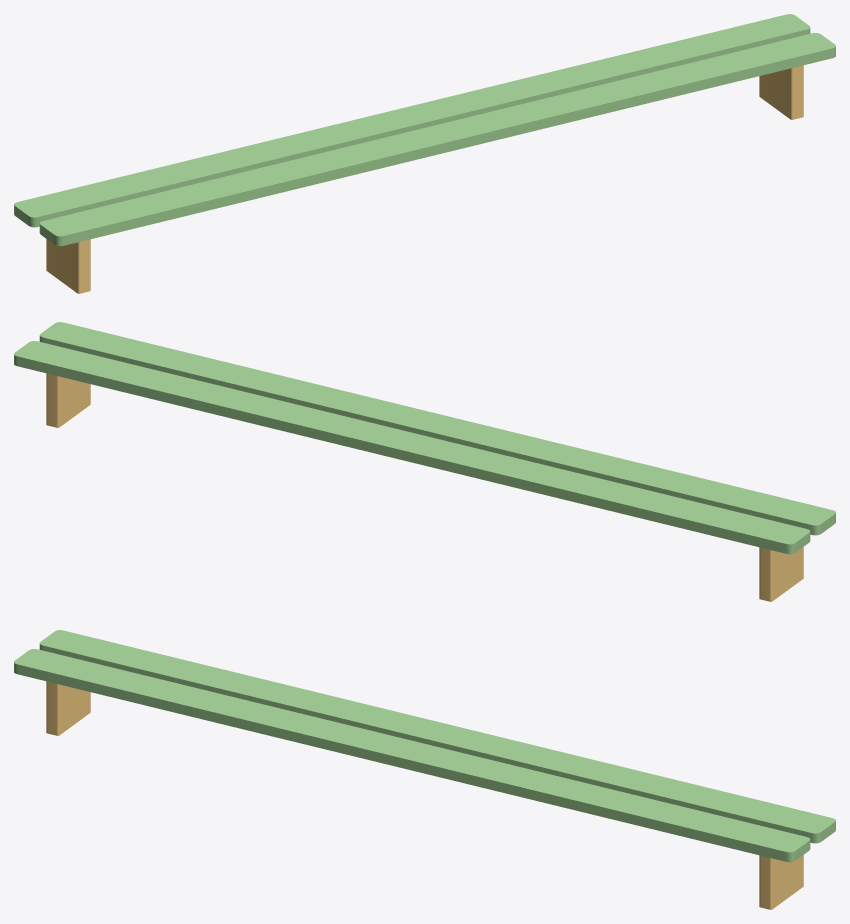
The model's file is Bench C.fbx.
The picture shows the model from 3 angles, top to bottom: view 1: azimuth 30°, elevation 25°; view 2: azimuth 150°, elevation 25°; view 3: azimuth 330°, elevation 25°; orthographic projection.
Parts seen in each view (by area): view 1: Bench C.001, Bench C, Bench C.002; view 2: Bench C.001, Bench C, Bench C.002; view 3: Bench C, Bench C.001, Bench C.002.
Boxes of the visible parts, box(x1,y1,x2,y2) form: Bench C.001: box(14, 139, 320, 293); Bench C: box(529, 14, 835, 120); Bench C.002: box(274, 77, 575, 182); Bench C.001: box(529, 447, 835, 601); Bench C: box(14, 322, 320, 428); Bench C.002: box(274, 385, 575, 490); Bench C: box(529, 755, 835, 909); Bench C.001: box(14, 630, 320, 736); Bench C.002: box(274, 693, 575, 798).
Bounding box in the file's own units: 614 × 51.45 × 63.1.
